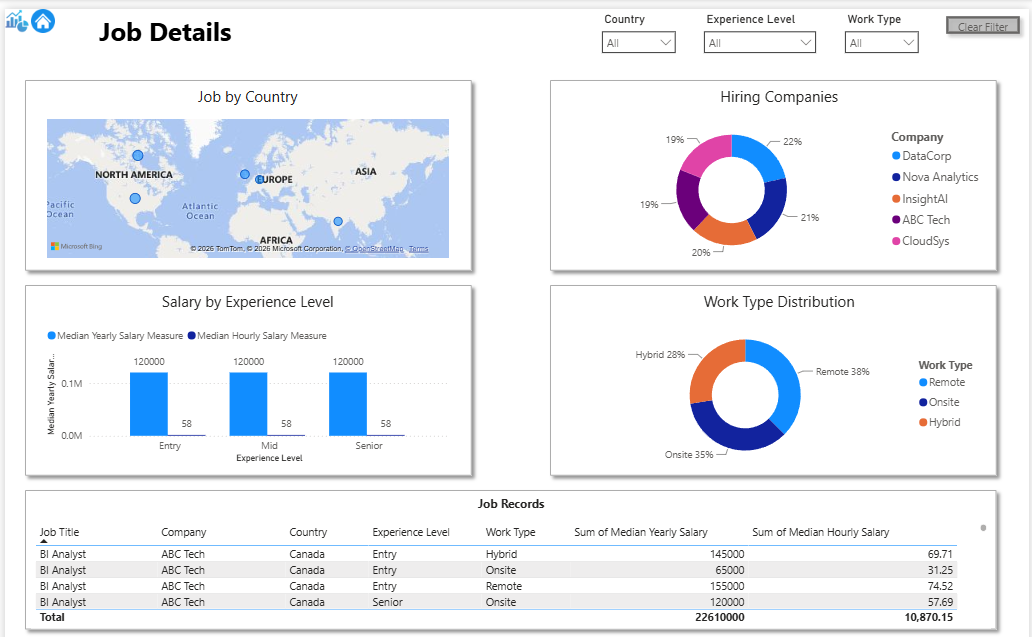

What the dashboard file says about the page in this screenshot:
{"tool":"powerbi","page":{"name":"Job details","canvas":[1280,900],"ordinal":2},"visuals":[{"type":"shape","box":[16,592,1232,192],"z":0},{"type":"shape","box":[672,336,576,256],"z":1000},{"type":"shape","box":[16,336,576,256],"z":2000},{"type":"shape","box":[16,80,576,256],"z":3000},{"type":"shape","box":[672,80,576,256],"z":4000},{"type":"textbox","box":[112,0,192,64],"z":5000},{"type":"slicer","fields":{"Values":["Jobs.Country"]},"box":[736,0,112,64],"z":6000},{"type":"slicer","fields":{"Values":["Jobs.Experience Level"]},"box":[864,0,160,64],"z":7000},{"type":"slicer","fields":{"Values":["Jobs.Work Type"]},"box":[1040,0,112,64],"z":8000},{"type":"actionButton","box":[1168,0,110,40],"z":9000},{"type":"map","title":"Job by Country","fields":{"Category":["Jobs.Country"],"Size":["Sum(Jobs.Job Count)"]},"box":[48,96,512,220],"z":10000},{"type":"donutChart","title":"Hiring Companies","fields":{"Category":["Jobs.Company"],"Y":["Sum(Jobs.Job Count)"]},"box":[704,96,528,224],"z":11000},{"type":"donutChart","title":"Work Type Distribution","fields":{"Category":["Jobs.Work Type"],"Y":["Sum(Jobs.Job Count)"]},"box":[704,352,528,224],"z":12000},{"type":"clusteredColumnChart","title":"Salary by Experience Level","fields":{"Y":["Measures (2).Median Yearly Salary Measure","Measures (2).Median Hourly Salary Measure"],"Category":["Jobs.Experience Level"]},"box":[48,352,512,220],"z":13000},{"type":"tableEx","title":"Job Records","fields":{"Values":["Jobs.Job Title","Jobs.Company","Jobs.Country","Jobs.Experience Level","Jobs.Work Type","Sum(Jobs.Median Yearly Salary)","Sum(Jobs.Median Hourly Salary)"]},"box":[32,608,1200,167],"z":14000},{"type":"image","box":[32,0,30,30],"z":15000},{"type":"image","box":[0,0,30,30],"z":16000}]}

Visuals, with their boxes on the page's 1280x900 design canvas (x1, y1, x2, y2). These are canvas units, not pixel positions in the 1032x637 screenshot, which may show the page scaled, cropped or inside an application window:
shape: <region>16, 592, 1248, 784</region>
shape: <region>672, 336, 1248, 592</region>
shape: <region>16, 336, 592, 592</region>
shape: <region>16, 80, 592, 336</region>
shape: <region>672, 80, 1248, 336</region>
textbox: <region>112, 0, 304, 64</region>
slicer - Jobs.Country: <region>736, 0, 848, 64</region>
slicer - Jobs.Experience Level: <region>864, 0, 1024, 64</region>
slicer - Jobs.Work Type: <region>1040, 0, 1152, 64</region>
actionButton: <region>1168, 0, 1278, 40</region>
"Job by Country" map: <region>48, 96, 560, 316</region>
"Hiring Companies" donutChart: <region>704, 96, 1232, 320</region>
"Work Type Distribution" donutChart: <region>704, 352, 1232, 576</region>
"Salary by Experience Level" clusteredColumnChart: <region>48, 352, 560, 572</region>
"Job Records" tableEx: <region>32, 608, 1232, 775</region>
image: <region>32, 0, 62, 30</region>
image: <region>0, 0, 30, 30</region>
